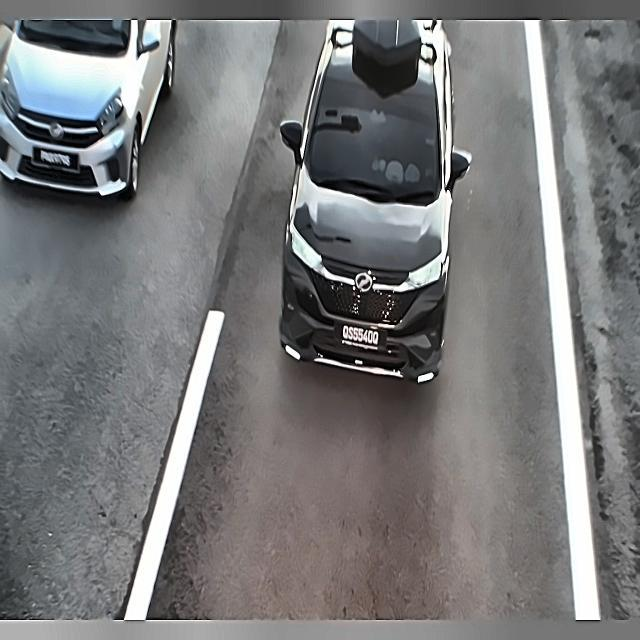car: (31, 138, 81, 182), (335, 319, 385, 357)
